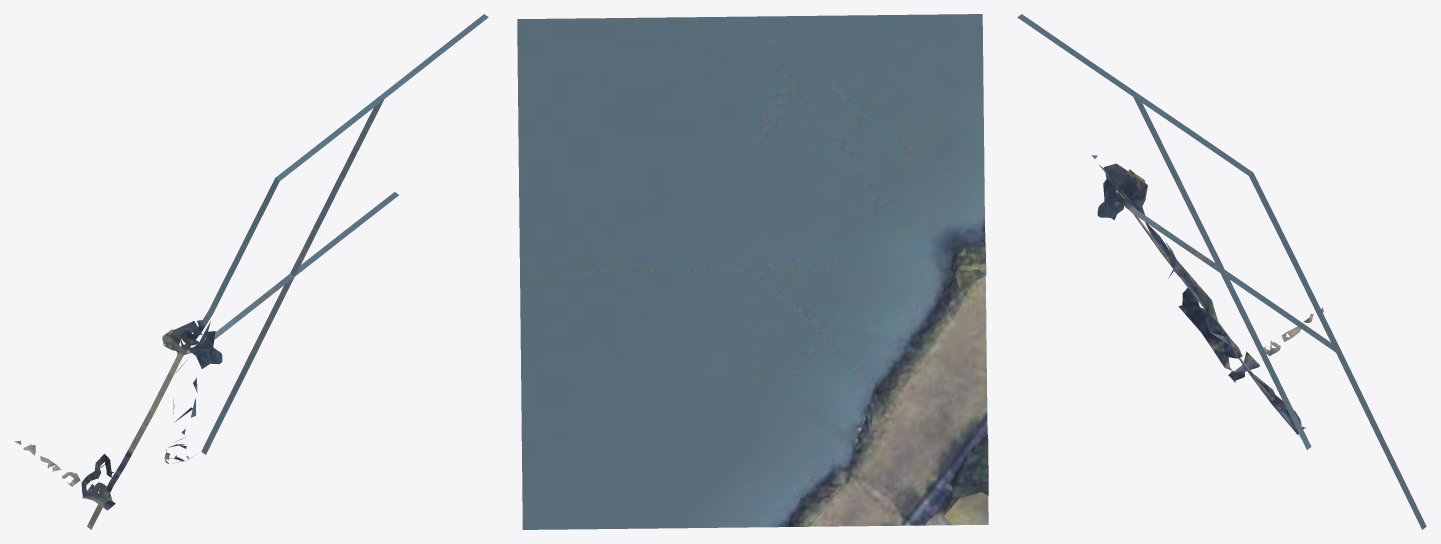
3 renders of one model, left to right at view 1: azimuth 30°, elevation 25°; view 2: azimuth 150°, elevation 25°; view 3: azimuth 270°, elevation 25°, orthographic. The views are drawn at different scales.
Size of the model in its own units: 159 by 139 by 129.
Materials: 1 (1 with a texture image).
